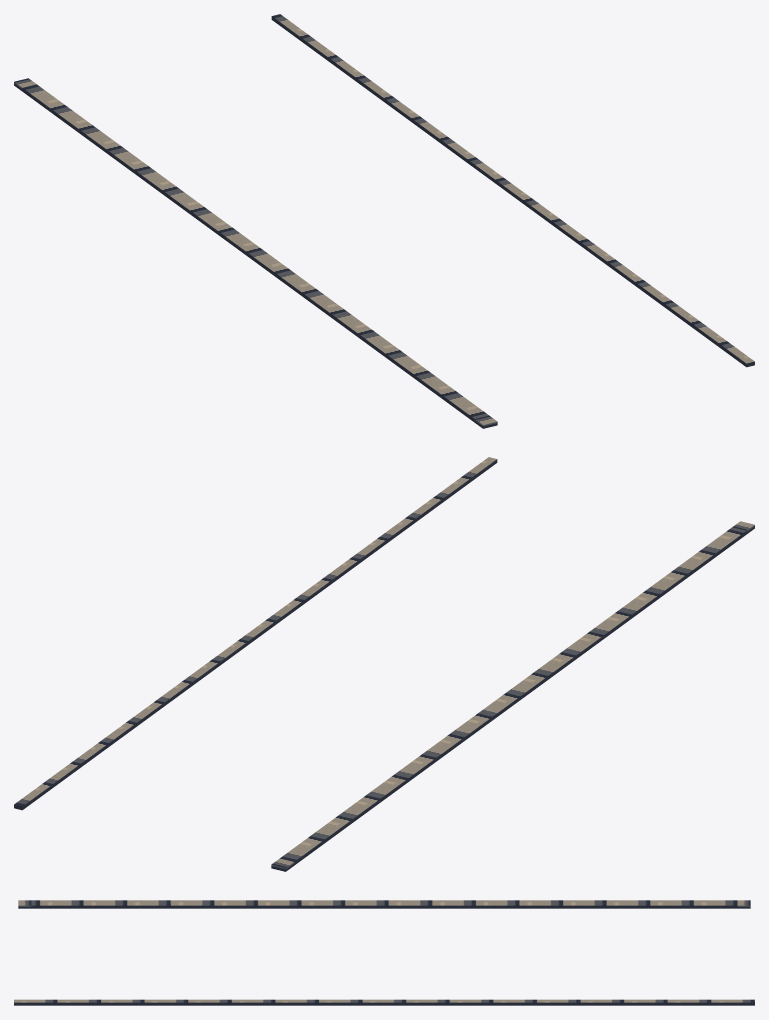
Rendered from lot_curbs.glb.
3 renders of one model, top to bottom at view 1: azimuth 30°, elevation 25°; view 2: azimuth 150°, elevation 25°; view 3: azimuth 270°, elevation 25°, orthographic. The views are drawn at different scales.
Visible parts, largest first — view 1: lot_curbs; view 2: lot_curbs; view 3: lot_curbs.
Boxes of the visible parts, x1,y1,x2,y2 form: lot_curbs: [14, 14, 754, 428]; lot_curbs: [14, 457, 754, 871]; lot_curbs: [14, 900, 754, 1005].
Bounding box in the file's own units: 11.13 × 0.15 × 34.
1 material, 1 textured.
